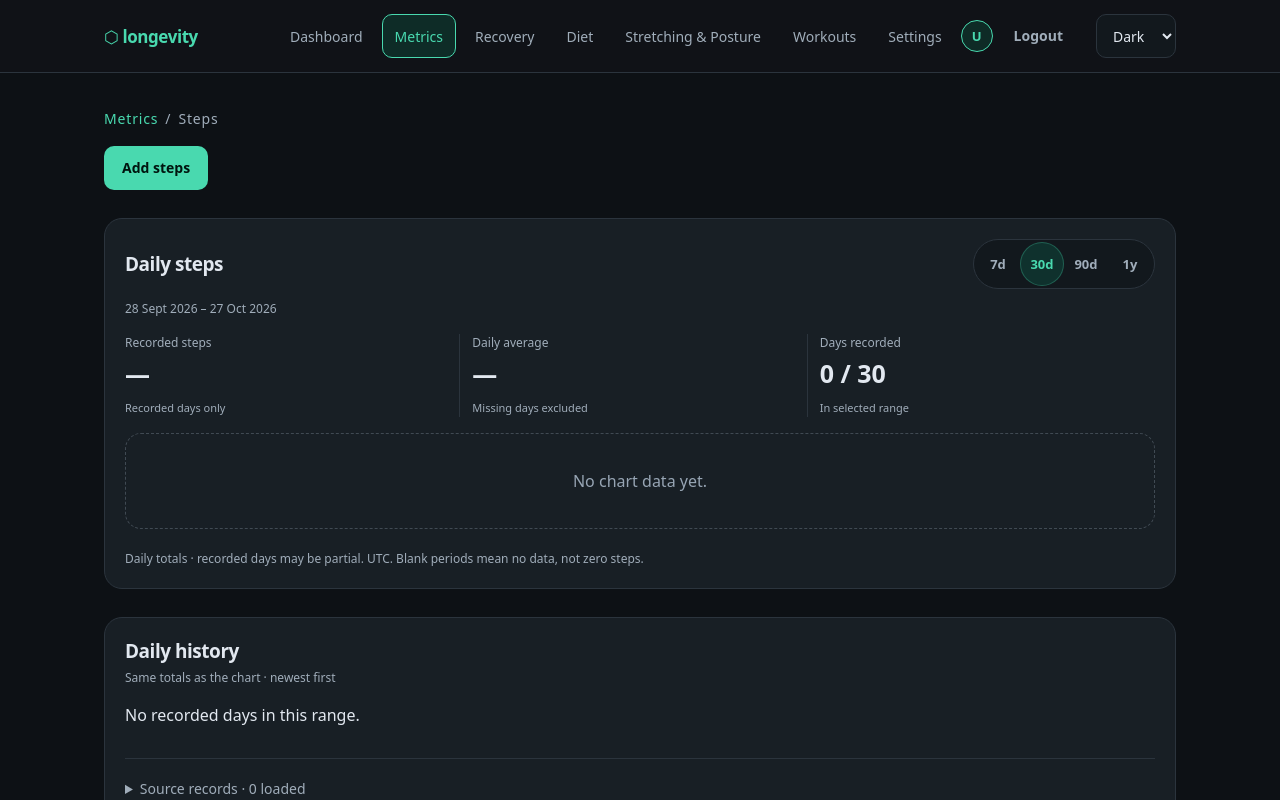
Test: metric detail route › switches Steps to weekly bars while keeping daily history and summaries
This screenshot has width=1280, height=800.
Click the button "90d".
click(1086, 264)  # box [1064, 242, 1108, 286]
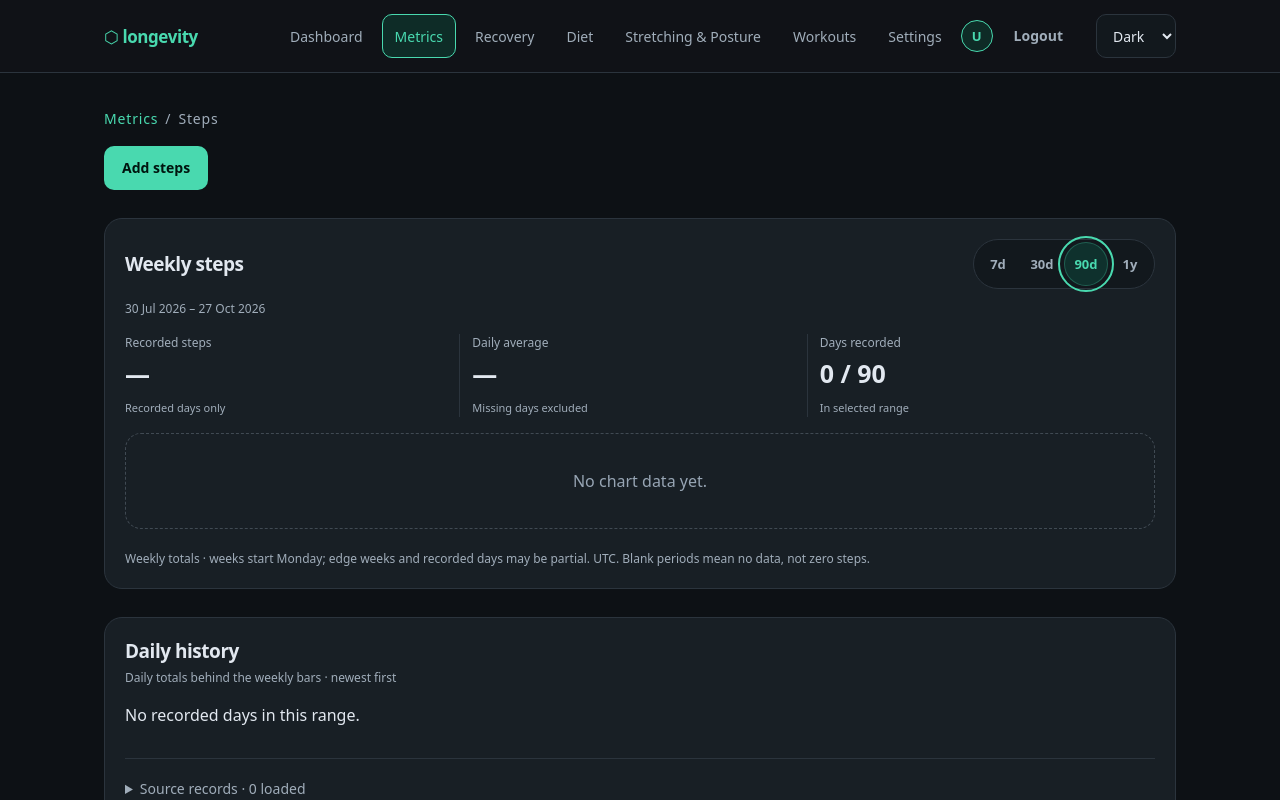
Check: the text "0 / 90" is shown, box [820, 356, 886, 390]
Check: the text "edge weeks and recorded days may be partial" is shown, box [125, 550, 590, 567]
Check: the element named "Daily steps history" shows "Daily totals behind the weekly bars", box [125, 669, 396, 686]
Click the button "7d".
click(998, 264)  # box [976, 242, 1020, 286]
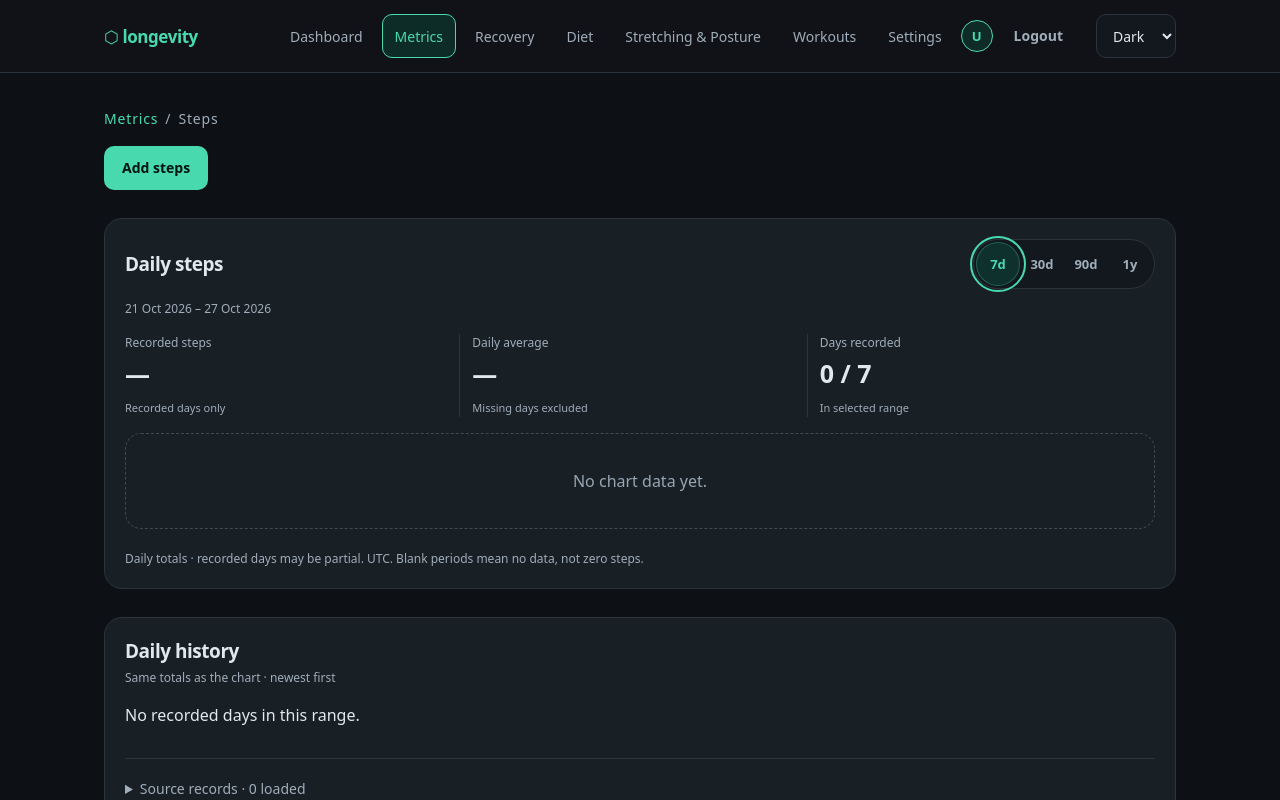
Check: the element named "Daily steps" shows "0 / 7", box [104, 218, 1176, 589]
